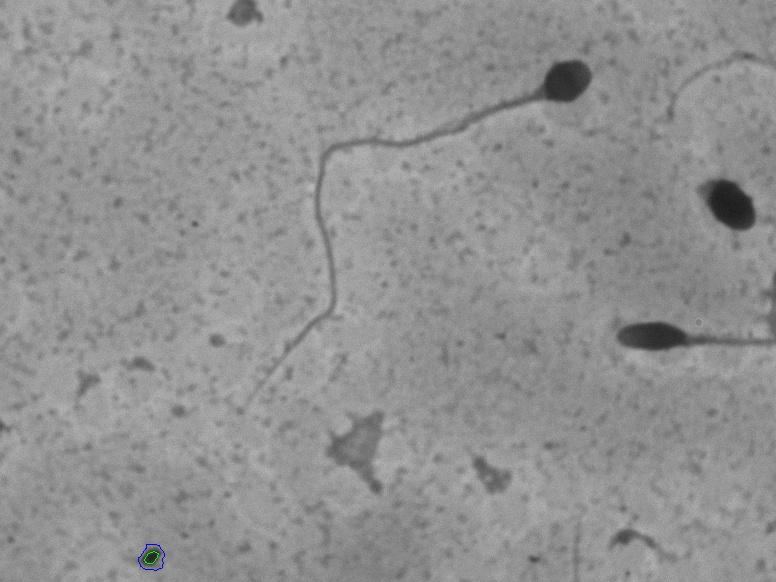Abnormal: (614, 294, 763, 393)
Normal: (208, 50, 598, 387)
